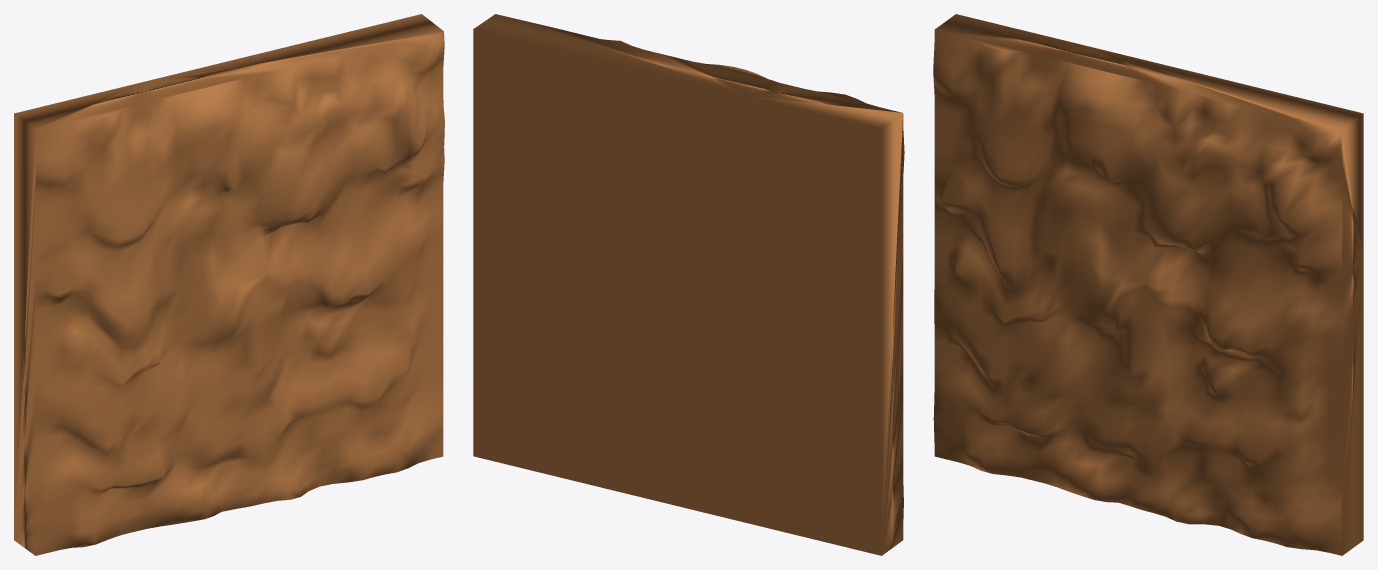
Rendered from Wall.fbx.
3 views of the same model, side by side, from view 1: azimuth 30°, elevation 25°; view 2: azimuth 150°, elevation 25°; view 3: azimuth 330°, elevation 25° (orthographic).
Visible parts, largest first — view 1: wall; view 2: wall; view 3: wall.
Boxes of the visible parts, box(x1,y1,x2,y2) form: wall: box(14, 14, 444, 555); wall: box(473, 14, 904, 555); wall: box(933, 14, 1363, 555).
Size of the model in its own units: 17241 by 17349 by 2751.
